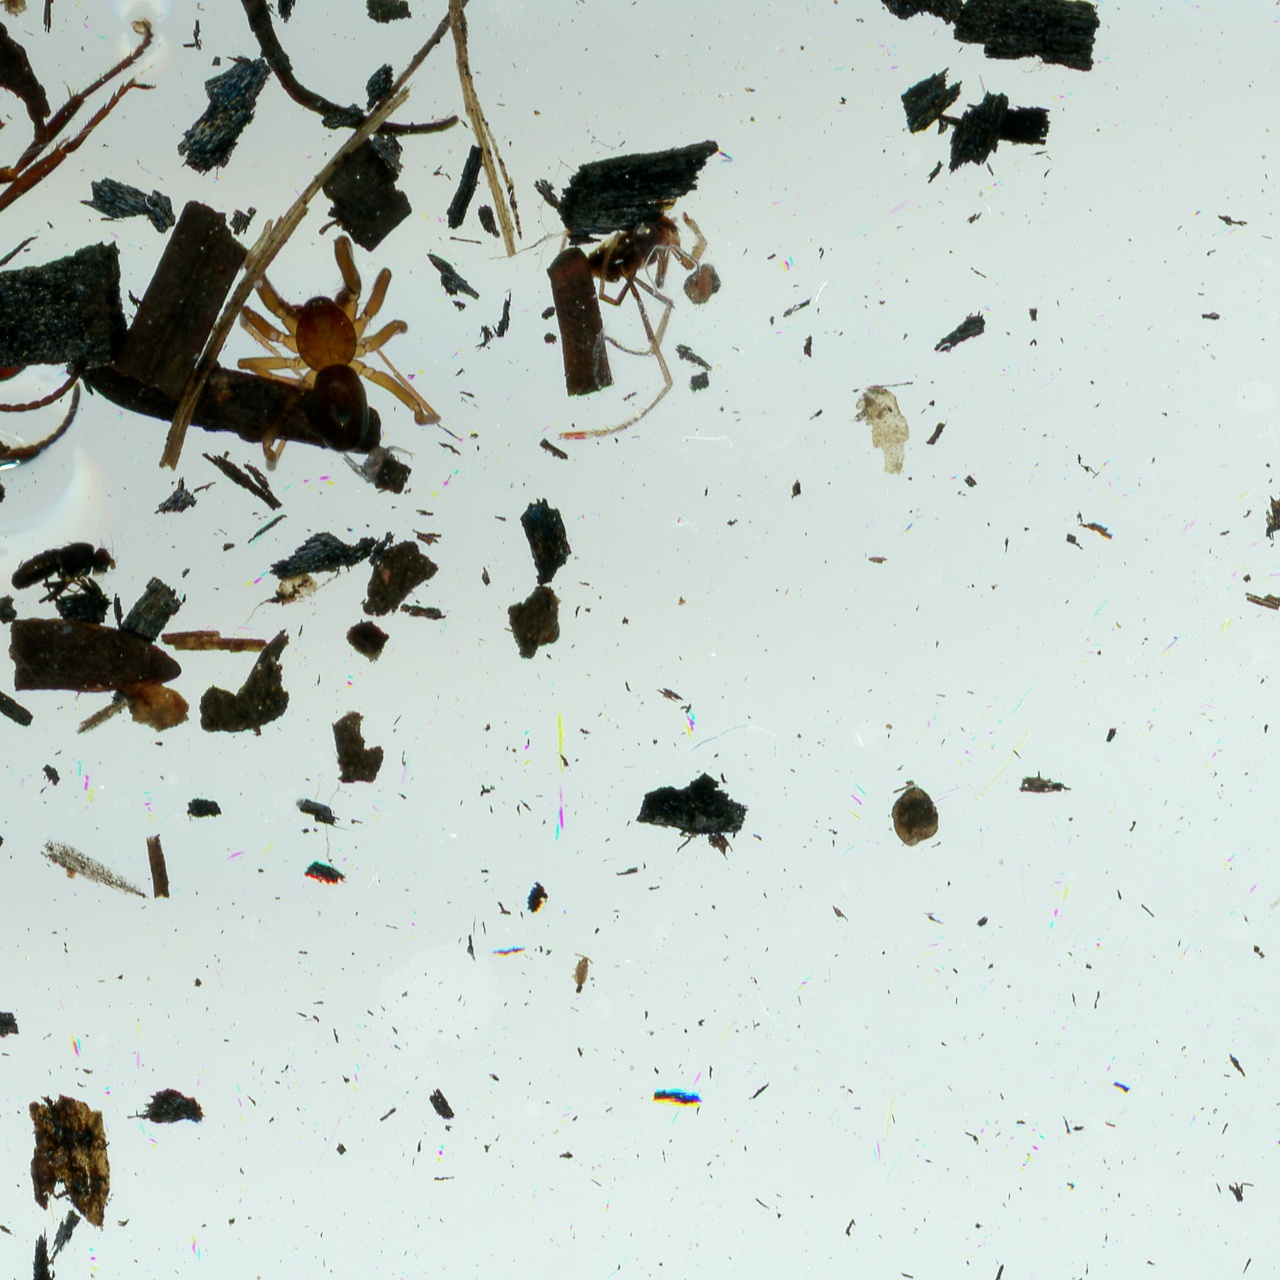arthropod: (0, 0, 159, 468), (490, 192, 710, 446), (240, 230, 448, 472), (0, 517, 132, 616), (339, 443, 421, 491)
